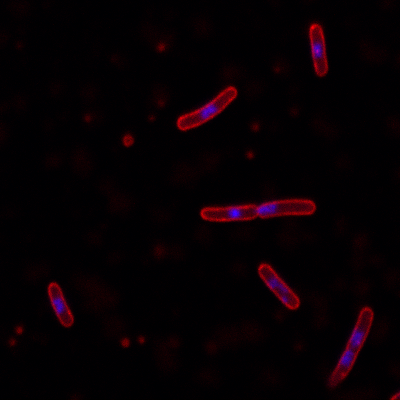Nalidixate: (176, 84, 238, 132), (199, 198, 317, 222), (258, 264, 301, 311), (47, 281, 74, 329), (309, 23, 328, 77)
Oblique: (328, 307, 375, 385)
Vesicle: (122, 132, 135, 149), (155, 42, 167, 53), (119, 337, 130, 349), (155, 99, 167, 110), (147, 112, 157, 123), (82, 114, 93, 124), (6, 338, 16, 348), (15, 325, 24, 335), (138, 335, 147, 345), (244, 151, 254, 160), (251, 123, 261, 132)
